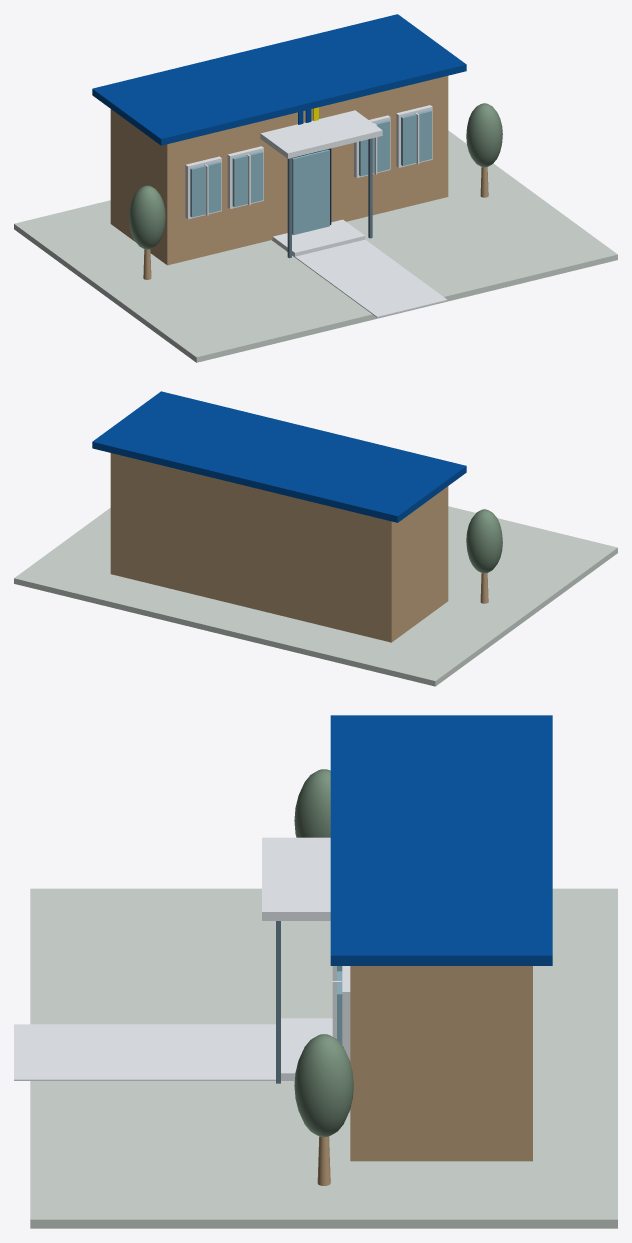
The model's file is school.glb.
3 renders of one model, top to bottom at view 1: azimuth 30°, elevation 25°; view 2: azimuth 150°, elevation 25°; view 3: azimuth 270°, elevation 25°, orthographic. The views are drawn at different scales.
Visible parts, largest first — view 1: Site, Building, Roof, Walkway, Window (×4), Canopy (×2), EntryCanopy, DoorGlass, WindowFrame (×3), EntryStep, Column (×2); view 2: Building, Site, Roof, Canopy; view 3: Site, Roof, Building, Walkway, Canopy (×2), EntryCanopy, EntryStep, Column, WindowFrame.
Boxes of the visible parts, x1=… form: Site: x1=14, y1=130, x2=617, y2=362; Building: x1=110, y1=76, x2=448, y2=265; Roof: x1=92, y1=14, x2=466, y2=145; Walkway: x1=286, y1=239, x2=447, y2=317; Window (×4): x1=190, y1=110, x2=431, y2=217; Canopy (×2): x1=129, y1=103, x2=502, y2=249; EntryCanopy: x1=260, y1=110, x2=382, y2=158; DoorGlass: x1=292, y1=149, x2=329, y2=235; WindowFrame (×3): x1=185, y1=105, x2=432, y2=219; EntryStep: x1=272, y1=219, x2=365, y2=256; Column (×2): x1=287, y1=138, x2=372, y2=258; Building: x1=110, y1=453, x2=448, y2=642; Site: x1=14, y1=506, x2=617, y2=686; Roof: x1=92, y1=391, x2=466, y2=522; Canopy: x1=466, y1=509, x2=502, y2=573; Site: x1=30, y1=888, x2=617, y2=1228; Roof: x1=330, y1=715, x2=552, y2=965; Building: x1=350, y1=966, x2=532, y2=1161; Walkway: x1=14, y1=1024, x2=294, y2=1080; Canopy (×2): x1=294, y1=769, x2=353, y2=1137; EntryCanopy: x1=262, y1=837, x2=330, y2=920; EntryStep: x1=281, y1=1018, x2=332, y2=1080; Column: x1=276, y1=921, x2=280, y2=1083; WindowFrame: x1=342, y1=966, x2=350, y2=1061.
Size of the model in its own units: 12 by 3.85 by 9.25.
